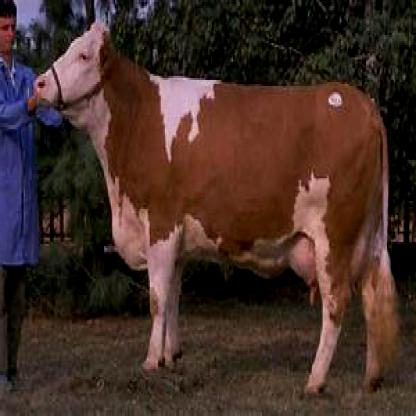cow: (32, 19, 401, 392)
